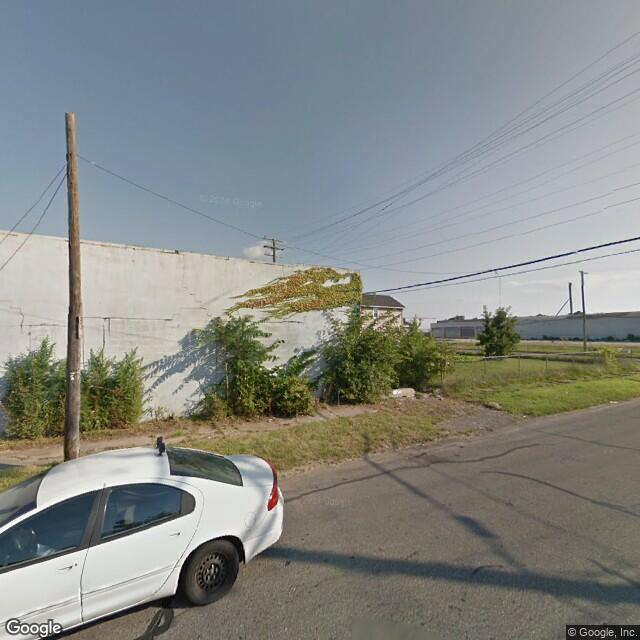litter: (607, 399, 623, 405), (520, 414, 528, 418)
